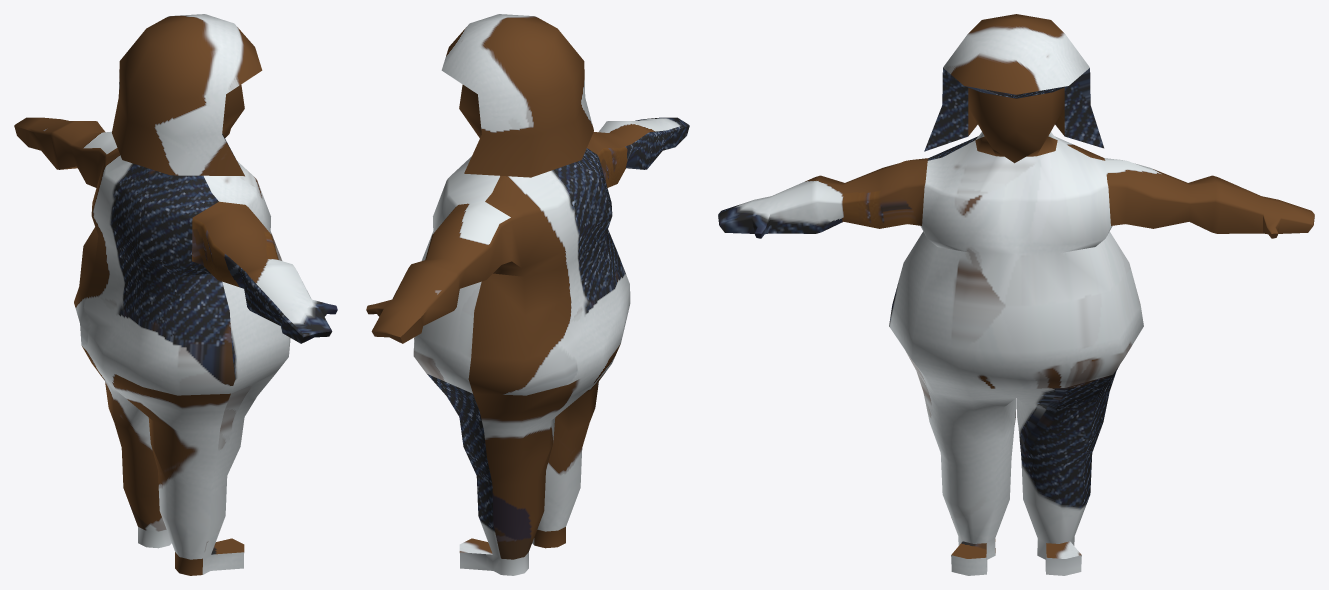
File: Red-head.fbx
3 views of the same model, side by side, from view 1: azimuth 30°, elevation 25°; view 2: azimuth 150°, elevation 25°; view 3: azimuth 270°, elevation 25° (orthographic). The views are drawn at different scales.
Parts seen in each view (by area): view 1: Red_Head_TCAstle; view 2: Red_Head_TCAstle; view 3: Red_Head_TCAstle.
Part boxes in pixels (x1,y1,x2,y2): Red_Head_TCAstle: (14, 14, 337, 575); Red_Head_TCAstle: (366, 14, 689, 575); Red_Head_TCAstle: (718, 14, 1314, 575).
Bounding box in the file's own units: 179 × 521 × 519.
